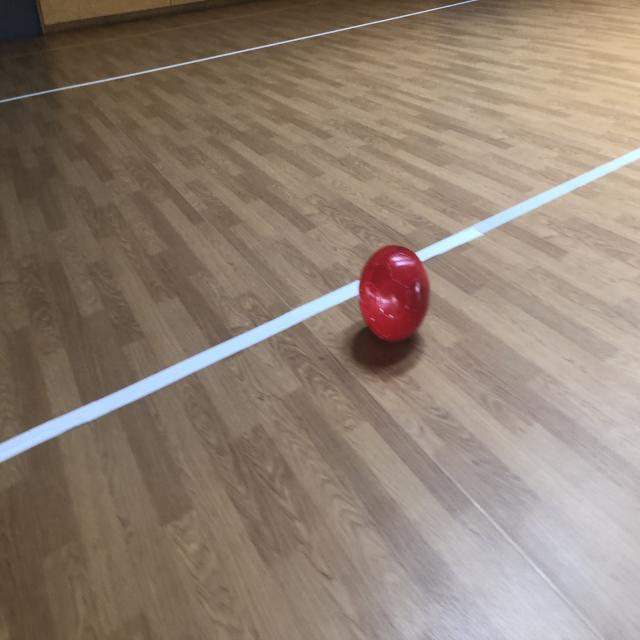red_ball: (359, 246, 429, 342)
